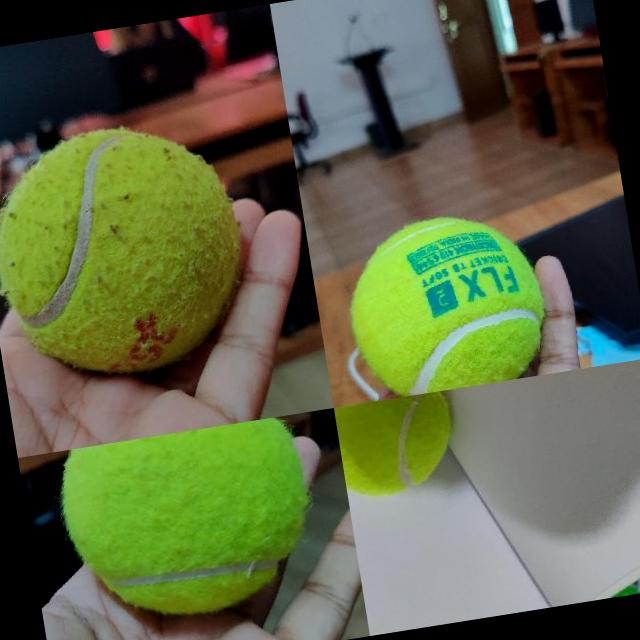tennis-ball: (0, 111, 259, 392), (53, 414, 324, 633), (338, 203, 555, 402), (334, 390, 463, 505)
